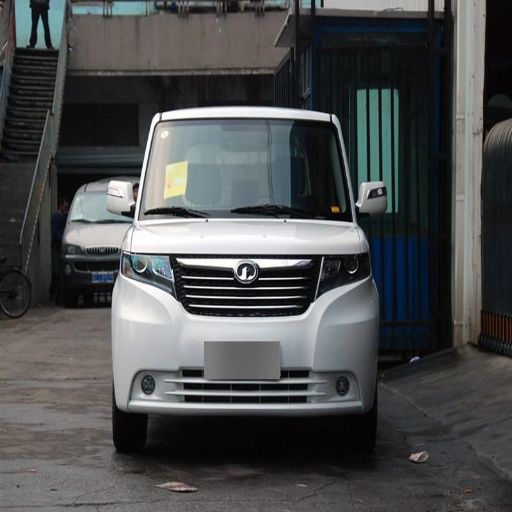front_bumper: (118, 253, 377, 410)
front_right_light: (120, 250, 171, 285)
hood: (135, 214, 365, 250)
